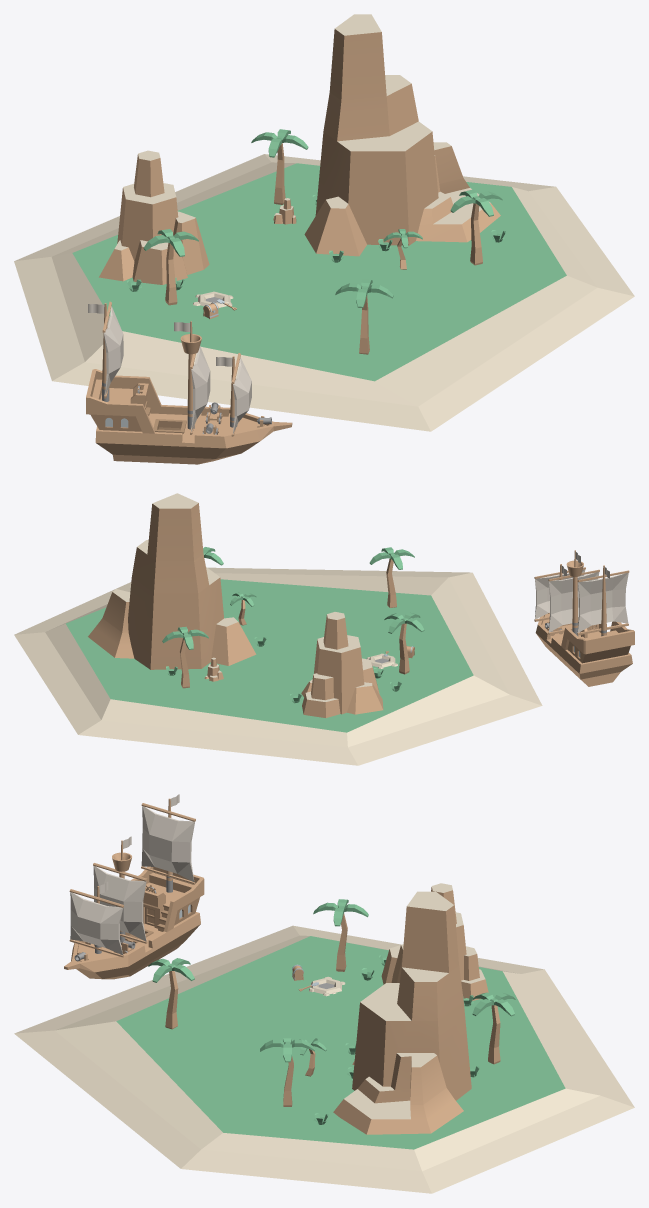
The model's file is artefact_example.glb.
The picture shows the model from 3 angles, top to bottom: view 1: azimuth 30°, elevation 25°; view 2: azimuth 150°, elevation 25°; view 3: azimuth 270°, elevation 25°; orthographic projection. The views are drawn at different scales.
Visible parts, largest first — view 1: Plane, formationLarge_rock, ship_light_8angles, formation_rock, sail_back 1, sail_middle 1, sail_front 1, Group 30, Group 30.002, Group 30.003, Group 30.001; view 2: Plane, formationLarge_rock, formation_rock, ship_light_8angles, sail_back 1, sail_middle 1, sail_front 1, Group 30.003, Group 30.001, Group 30.002, Group 28.003; view 3: Plane, formationLarge_rock, ship_light_8angles, sail_back 1, sail_front 1, sail_middle 1, formation_rock, Group 30.001, Group 30.002, Group 30.003, Group 30.
Boxes of the visible parts, <box> form: Plane: <box>14,154,634,431</box>; formationLarge_rock: <box>304,14,500,256</box>; ship_light_8angles: <box>86,303,292,464</box>; formation_rock: <box>99,150,209,284</box>; sail_back 1: <box>102,301,123,398</box>; sail_middle 1: <box>190,346,210,434</box>; sail_front 1: <box>231,353,251,436</box>; Group 30: <box>450,189,502,216</box>; Group 30.002: <box>251,129,308,157</box>; Group 30.003: <box>143,229,198,256</box>; Group 30.001: <box>335,279,393,307</box>; Plane: <box>14,567,542,765</box>; formationLarge_rock: <box>88,493,256,669</box>; formation_rock: <box>301,612,383,717</box>; ship_light_8angles: <box>535,550,634,686</box>; sail_back 1: <box>577,570,629,635</box>; sail_middle 1: <box>548,569,599,634</box>; sail_front 1: <box>534,567,585,621</box>; Group 30.003: <box>384,612,424,633</box>; Group 30.001: <box>369,547,414,569</box>; Group 30.002: <box>162,626,208,649</box>; Group 28.003: <box>399,623,409,674</box>; Plane: <box>14,925,634,1193</box>; formationLarge_rock: <box>333,891,471,1134</box>; ship_light_8angles: <box>64,794,204,979</box>; sail_back 1: <box>141,803,195,884</box>; sail_front 1: <box>69,889,123,957</box>; sail_middle 1: <box>93,863,147,943</box>; formation_rock: <box>381,883,488,1000</box>; Group 30.001: <box>148,958,194,982</box>; Group 30.002: <box>472,992,515,1016</box>; Group 30.003: <box>313,899,368,926</box>; Group 30: <box>260,1035,314,1062</box>.
Bounding box in the file's own units: 7.9 × 2.85 × 7.23.
